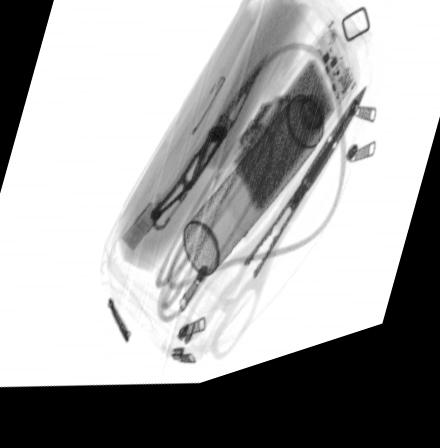Knife: (151, 69, 266, 239)
Powerbank: (215, 40, 357, 254)
Scissors: (180, 102, 368, 373)
Sprayer: (182, 78, 350, 289)
